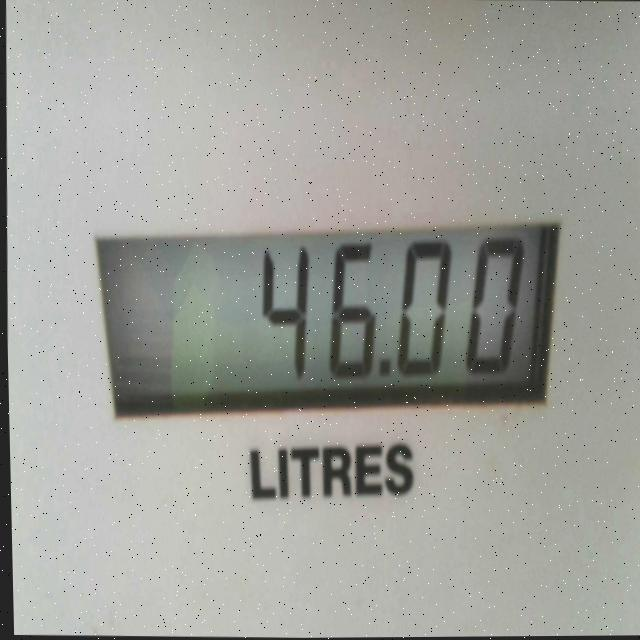.: (371, 354, 398, 396)
0: (461, 228, 529, 392), (389, 238, 457, 389)
4: (253, 254, 314, 382)
6: (316, 241, 376, 393)
